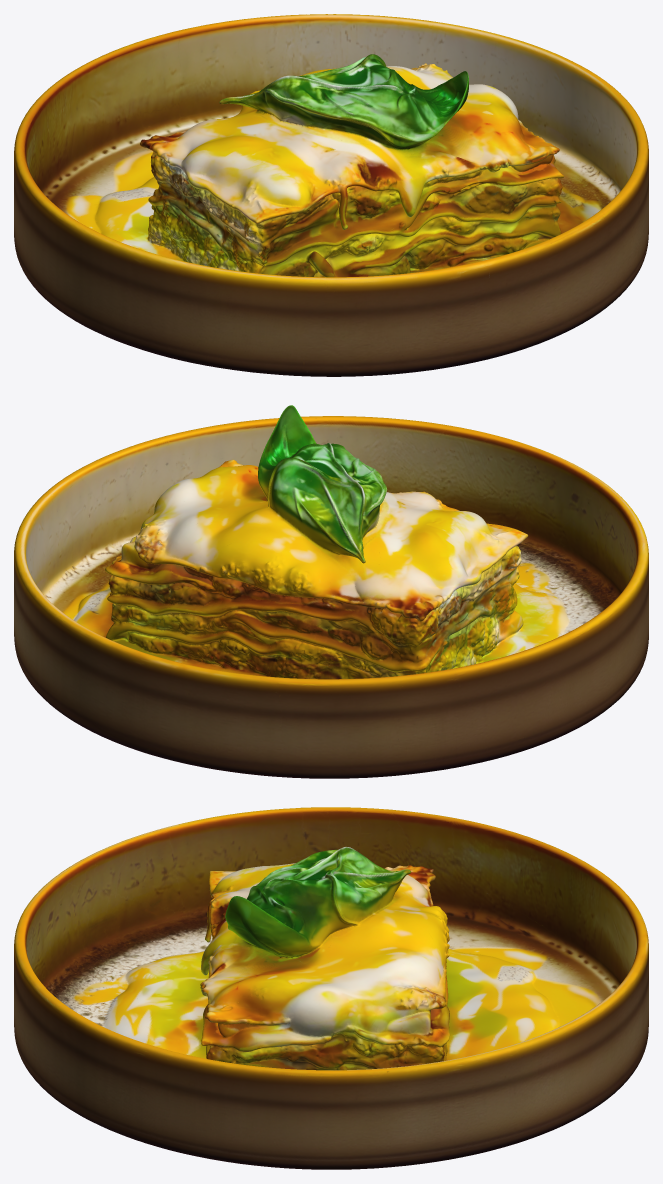
File: Pinocchio-Tiramisu.glb
3 renders of one model, top to bottom at view 1: azimuth 30°, elevation 25°; view 2: azimuth 150°, elevation 25°; view 3: azimuth 270°, elevation 25°, orthographic.
Visible parts, largest first — view 1: Mesh_0; view 2: Mesh_0; view 3: Mesh_0.
Boxes of the visible parts, x1,y1,x2,y2 form: Mesh_0: (14, 14, 648, 376); Mesh_0: (14, 405, 648, 778); Mesh_0: (14, 807, 648, 1169).
Bounding box in the file's own units: 0.1899 × 0.0697 × 0.1899.
Materials: 1 (1 with a texture image).
